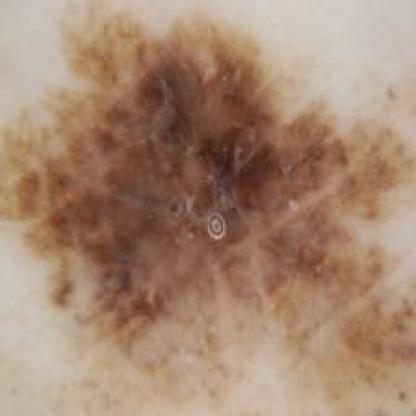malignant: (22, 28, 386, 355)
